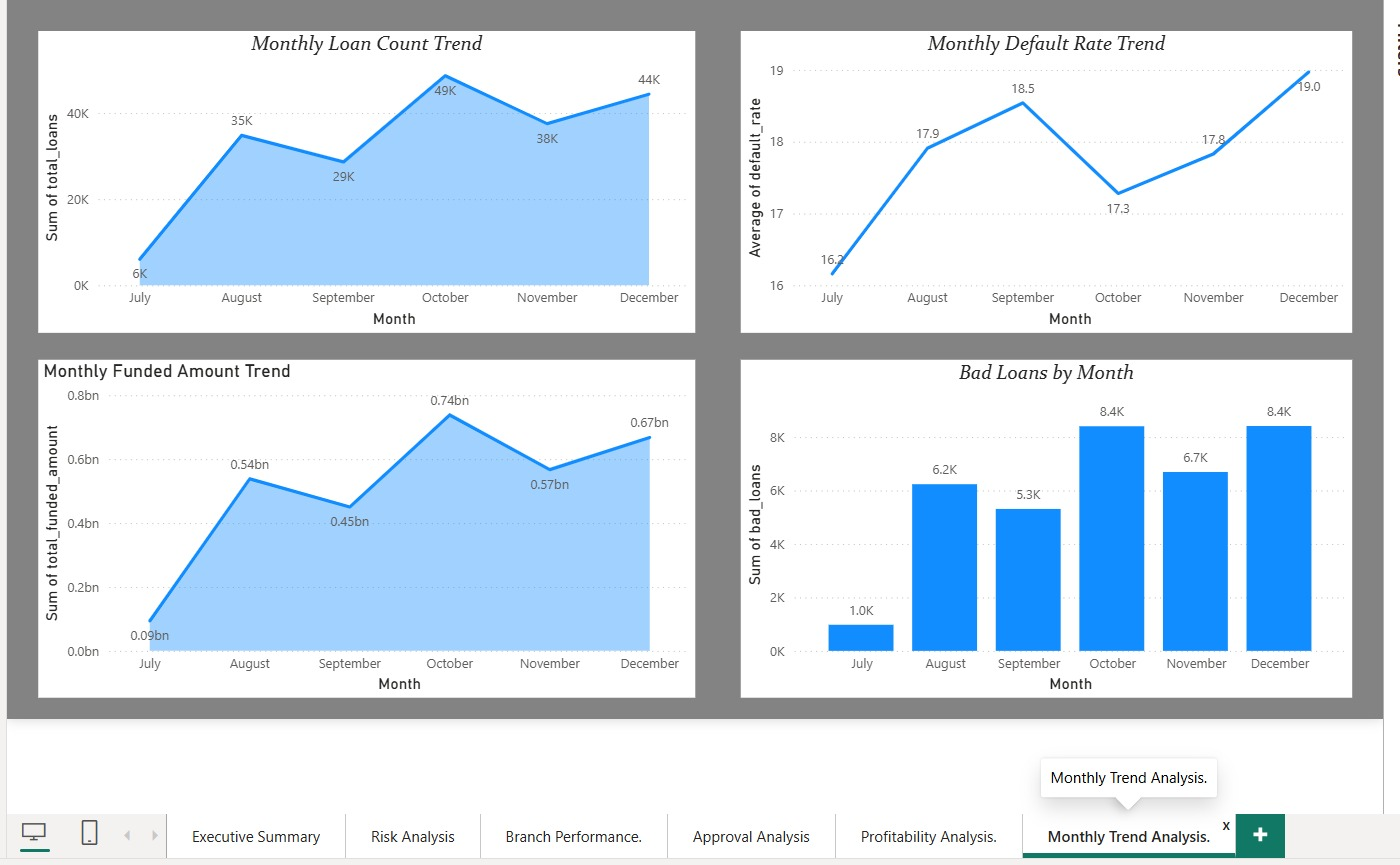

What the dashboard file says about the page in this screenshot:
{"tool":"powerbi","page":{"name":"Monthly Trend Analysis.","canvas":[1280,720],"ordinal":5},"visuals":[{"type":"lineChart","title":"Monthly Loan Count Trend","fields":{"Category":["Monthly Loan Trend.issue_month.Variation.Date Hierarchy.Month"],"Y":["Sum(Monthly Loan Trend.total_loans)"]},"box":[29,79,611.2,280.6],"z":0},{"type":"areaChart","title":"Monthly Funded Amount Trend","fields":{"Category":["Monthly Loan Trend.issue_month.Variation.Date Hierarchy.Month","Monthly Loan Trend.issue_month.Variation.Date Hierarchy.Day"],"Y":["Sum(Monthly Loan Trend.total_funded_amount)"]},"box":[29,384.6,611.2,314.8],"z":1000},{"type":"lineChart","title":"Monthly Default Rate Trend","fields":{"Category":["Monthly Loan Trend.issue_month.Variation.Date Hierarchy.Month"],"Y":["Avg(Monthly Loan Trend.default_rate)"]},"box":[682.3,79,569,280.6],"z":2000},{"type":"clusteredColumnChart","title":"Bad Loans by Month","fields":{"Category":["Monthly Loan Trend.issue_month.Variation.Date Hierarchy.Month"],"Y":["Sum(Monthly Loan Trend.bad_loans)"]},"box":[682.3,384.6,569,314.8],"z":3000}]}

Visuals, with their boxes in screenshot pixels (x1, y1, x2, y2):
"Monthly Loan Count Trend" lineChart: x1=31 y1=27 x2=691 y2=330
"Monthly Funded Amount Trend" areaChart: x1=31 y1=357 x2=691 y2=696
"Monthly Default Rate Trend" lineChart: x1=736 y1=27 x2=1350 y2=330
"Bad Loans by Month" clusteredColumnChart: x1=736 y1=357 x2=1350 y2=696
